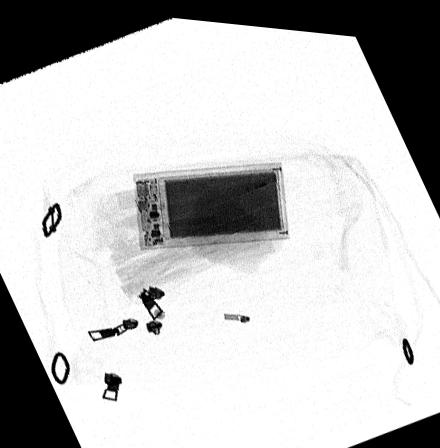Powerbank: (132, 155, 288, 246)
